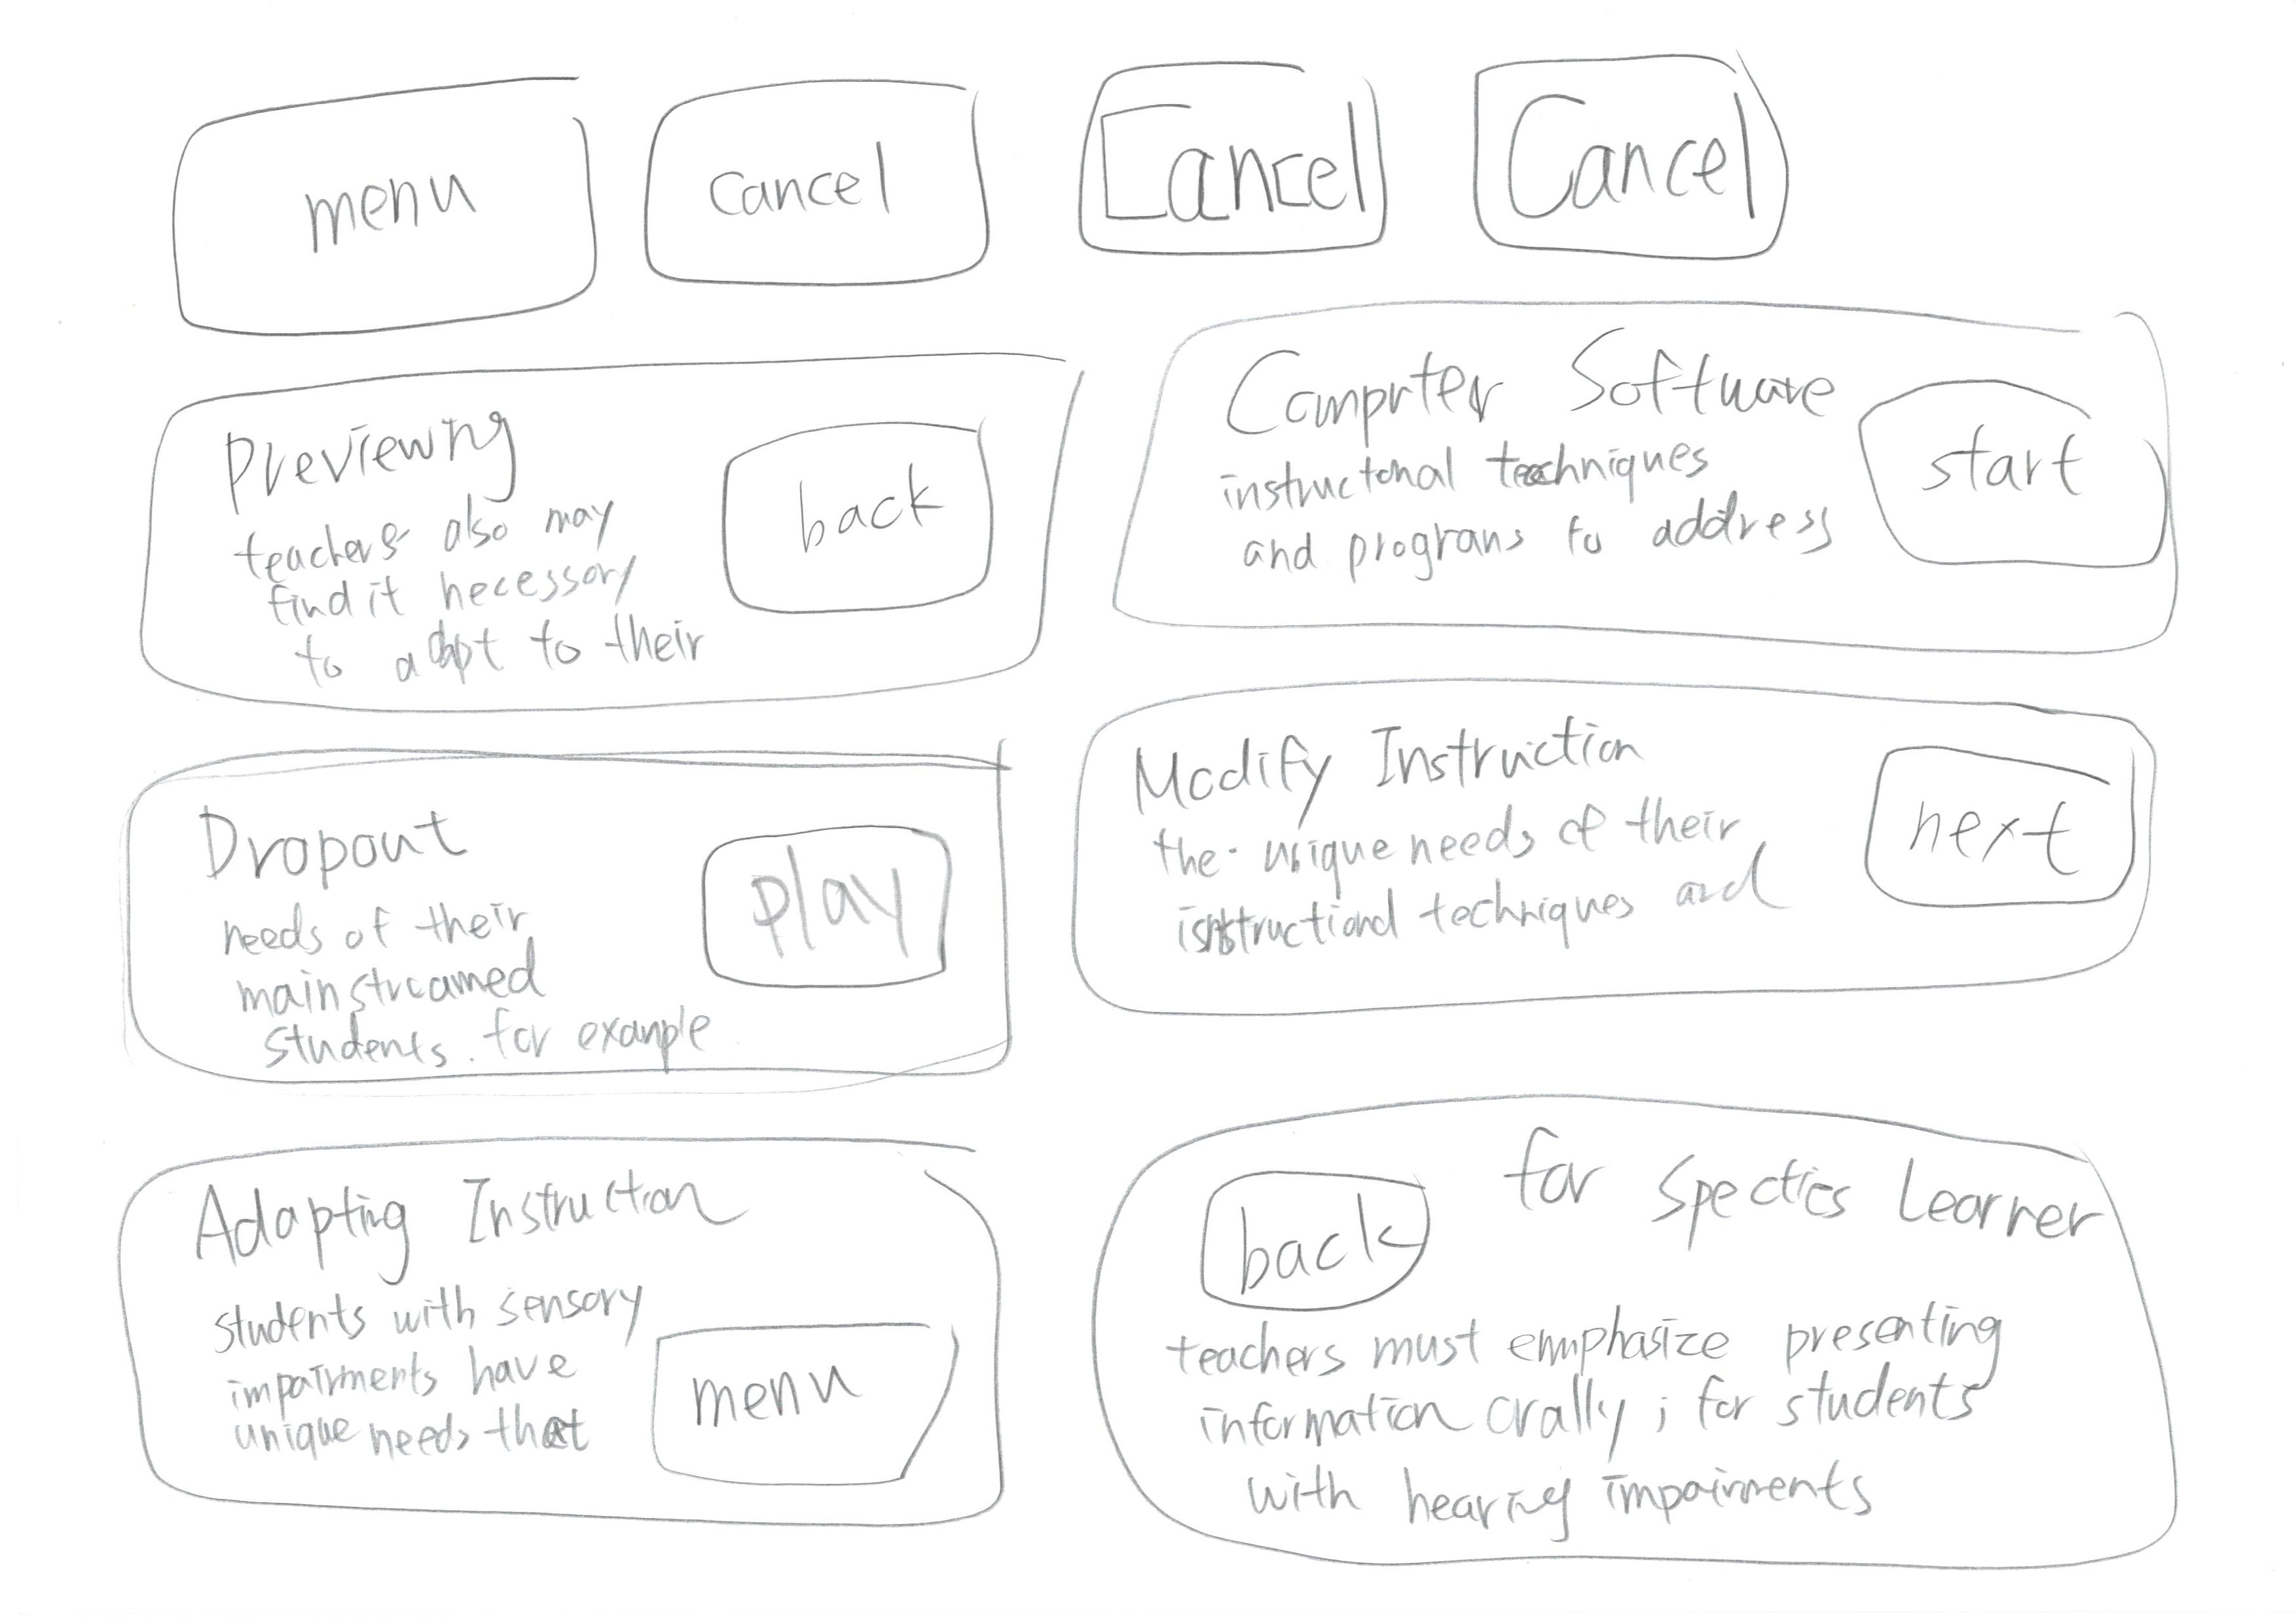back: (689, 411, 1014, 633), (1178, 1139, 1482, 1329)
cancel: (1450, 32, 1825, 279), (1041, 33, 1415, 279), (636, 60, 1011, 306)
double: (1072, 1072, 2256, 1591), (1046, 647, 2275, 1069), (1101, 288, 2240, 689), (76, 1120, 1044, 1587), (74, 700, 1055, 1142), (114, 313, 1097, 749)
menu: (127, 56, 629, 359), (635, 1269, 977, 1520)
next: (1834, 721, 2164, 947)
play: (696, 796, 970, 1014)
row: (33, 1074, 2296, 1591), (33, 668, 2296, 1116), (33, 279, 2296, 680), (33, 0, 2296, 353)
small-title: (1493, 1137, 2089, 1280), (200, 1172, 772, 1246), (1232, 350, 1807, 418), (1125, 721, 1688, 789), (213, 415, 545, 492), (190, 800, 485, 881)
start: (1835, 350, 2201, 594)
text: (1159, 1322, 2062, 1552), (1157, 791, 1783, 951), (206, 1271, 636, 1471), (1213, 450, 1853, 582), (222, 510, 680, 678), (211, 900, 694, 1056)
